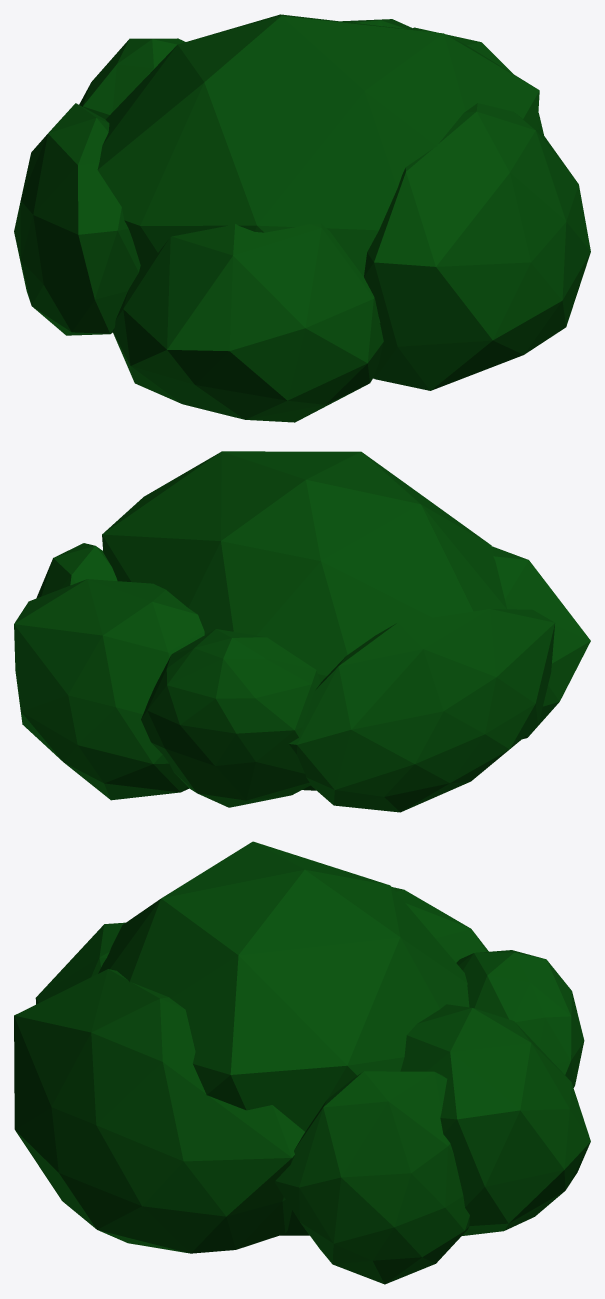
The model's file is bush8.fbx.
The picture shows the model from 3 angles, top to bottom: view 1: azimuth 30°, elevation 25°; view 2: azimuth 150°, elevation 25°; view 3: azimuth 270°, elevation 25°; orthographic projection. The views are drawn at different scales.
Parts seen in each view (by area): view 1: Cube; view 2: Cube; view 3: Cube.
Boxes of the visible parts, x1,y1,x2,y2 form: Cube: [14, 14, 590, 422]; Cube: [14, 451, 590, 812]; Cube: [14, 841, 590, 1284].
Bounding box in the file's own units: 360 × 211 × 348.
